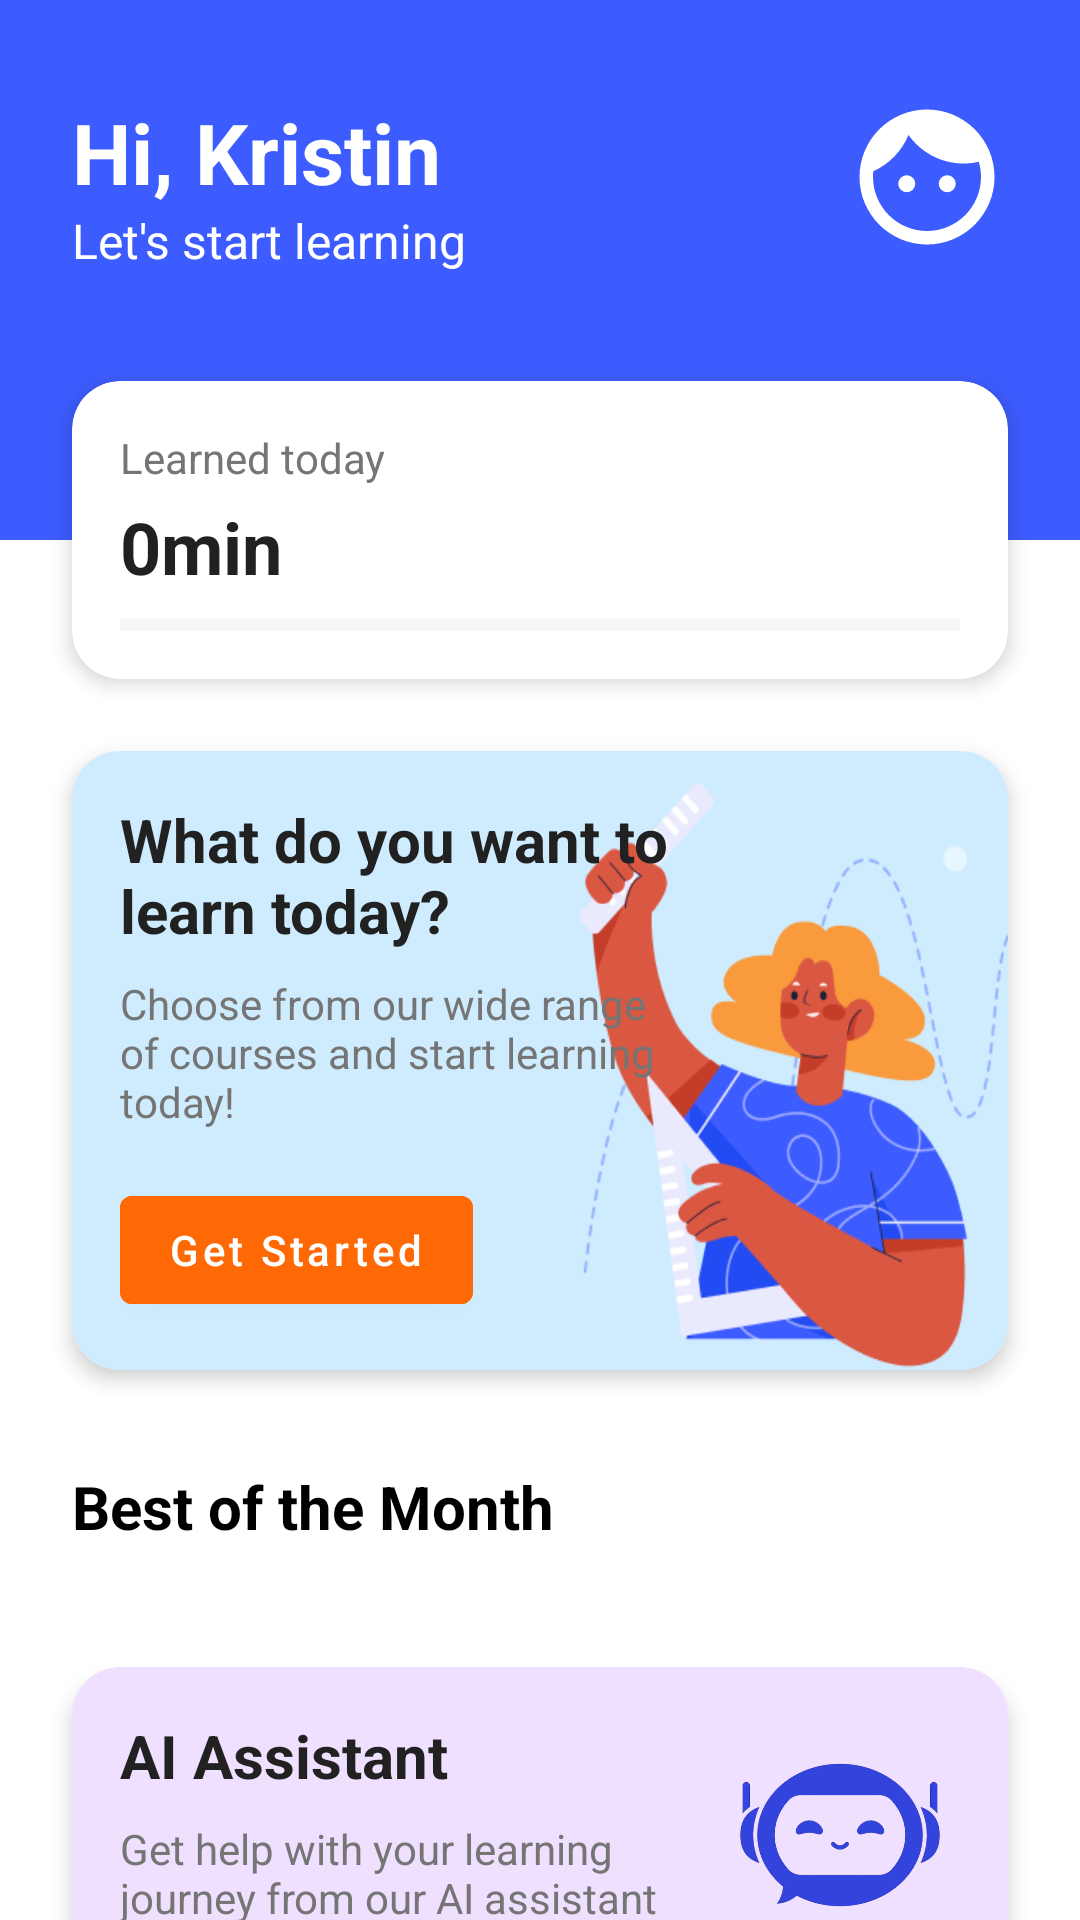

Screen size 1080×1920. Icon name, then its box in pixels as (x1, y1, x2, y2):
profile: (859, 109, 995, 245)
